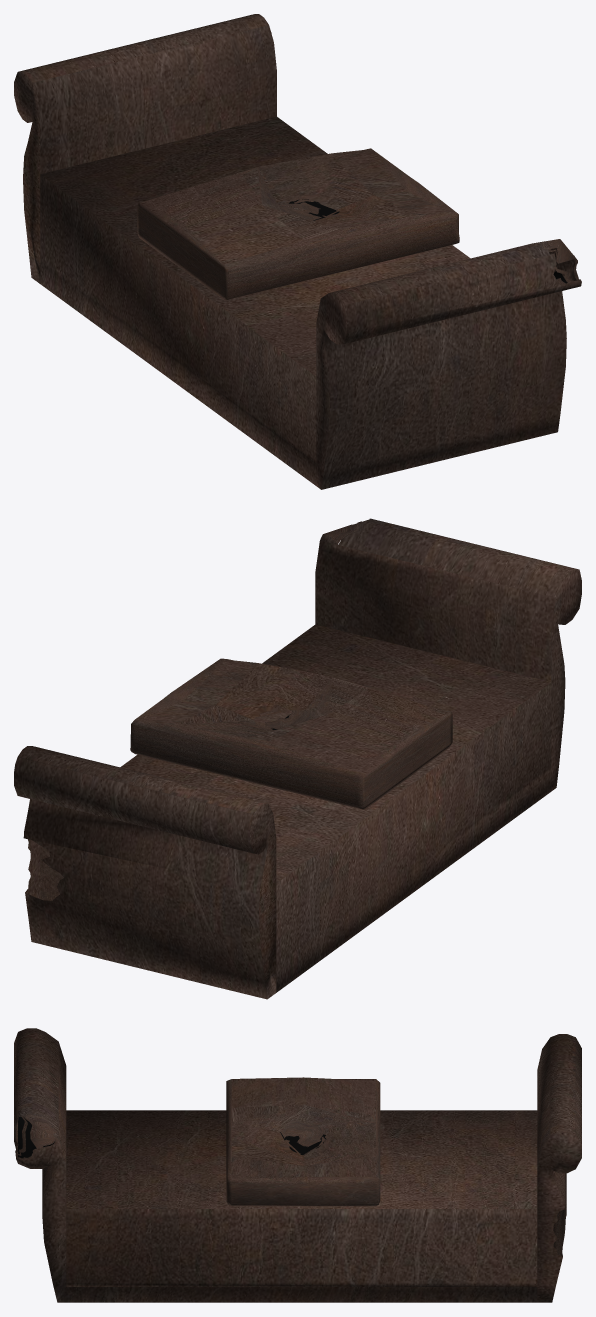
Rendered from Couchhhhh.fbx.
The picture shows the model from 3 angles, top to bottom: view 1: azimuth 30°, elevation 25°; view 2: azimuth 150°, elevation 25°; view 3: azimuth 270°, elevation 25°; orthographic projection. The views are drawn at different scales.
Visible parts, largest first — view 1: Cube, Cube.001; view 2: Cube, Cube.001; view 3: Cube, Cube.001.
Boxes of the visible parts, x1,y1,x2,y2 form: Cube: (14, 14, 581, 489); Cube.001: (137, 148, 459, 300); Cube: (14, 518, 581, 999); Cube.001: (130, 658, 452, 809); Cube: (14, 1028, 581, 1302); Cube.001: (226, 1077, 380, 1206).
Bounding box in the file's own units: 235 × 190 × 556.
